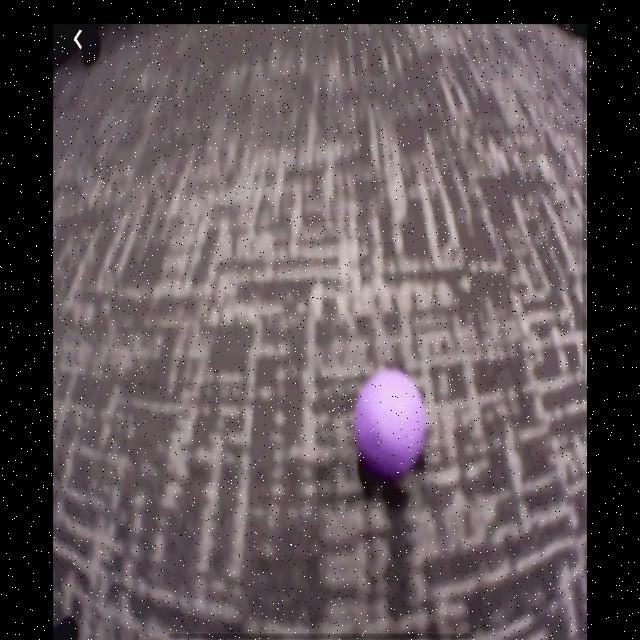ball: (358, 369, 425, 472)
